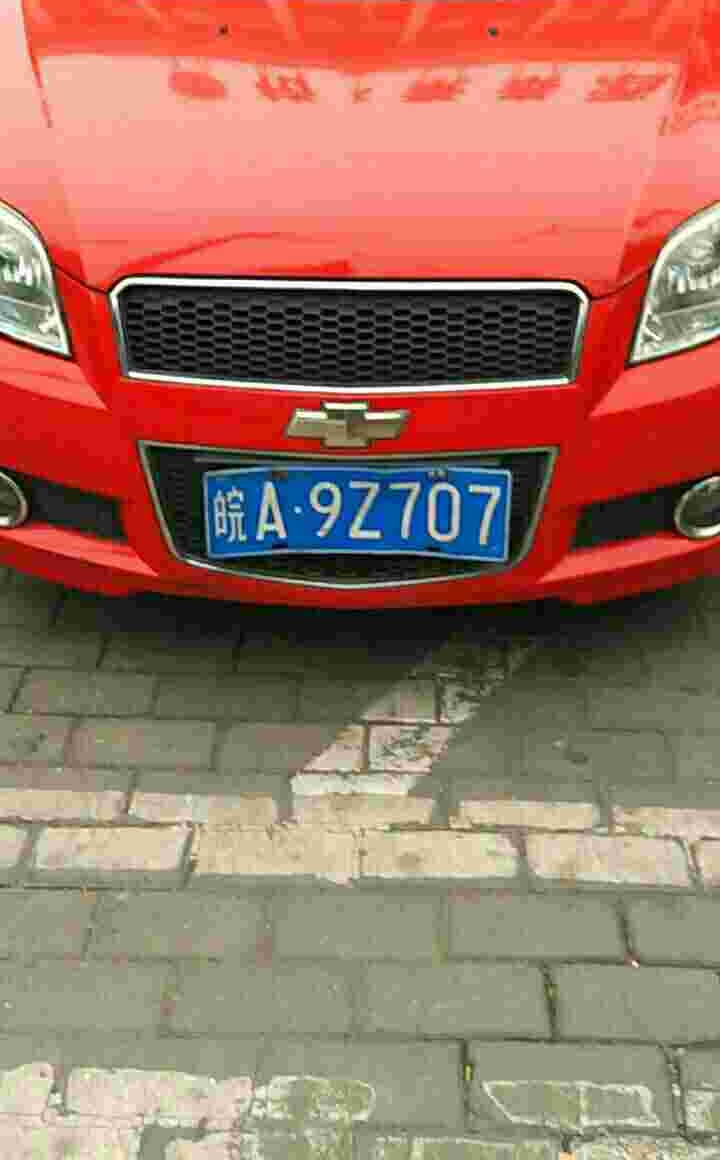license_plate: (192, 469, 517, 566)
